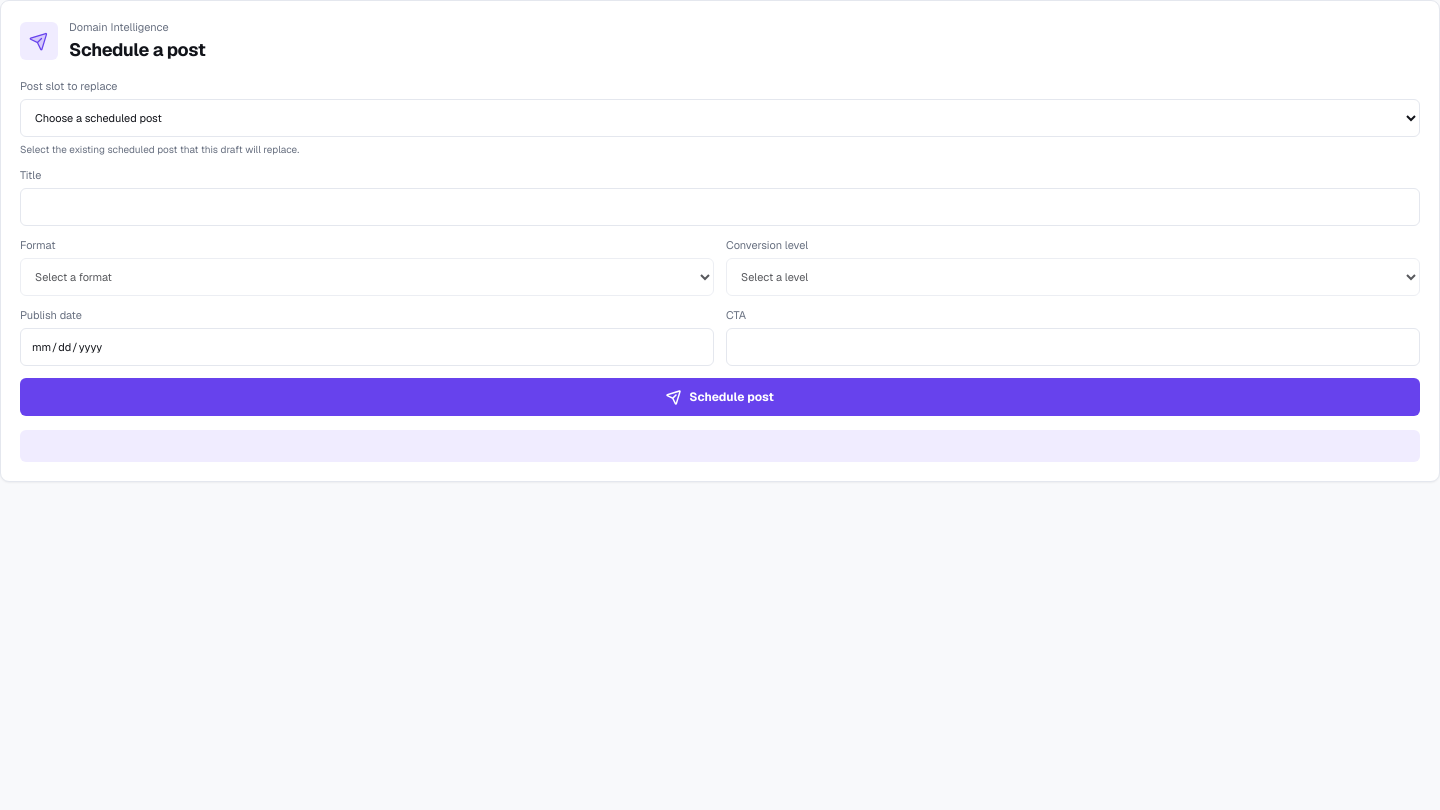
Scenario: rechecks eligibility before writing a slot that became published
The image size is (1440, 810).
Select "Cycle 1 · Slot 1 · Aug 22, 2026 · Market Pulse: .com transfer signals" in the dropdown labelled "Post slot to replace" at x=720, y=118, box [20,99,1420,137]
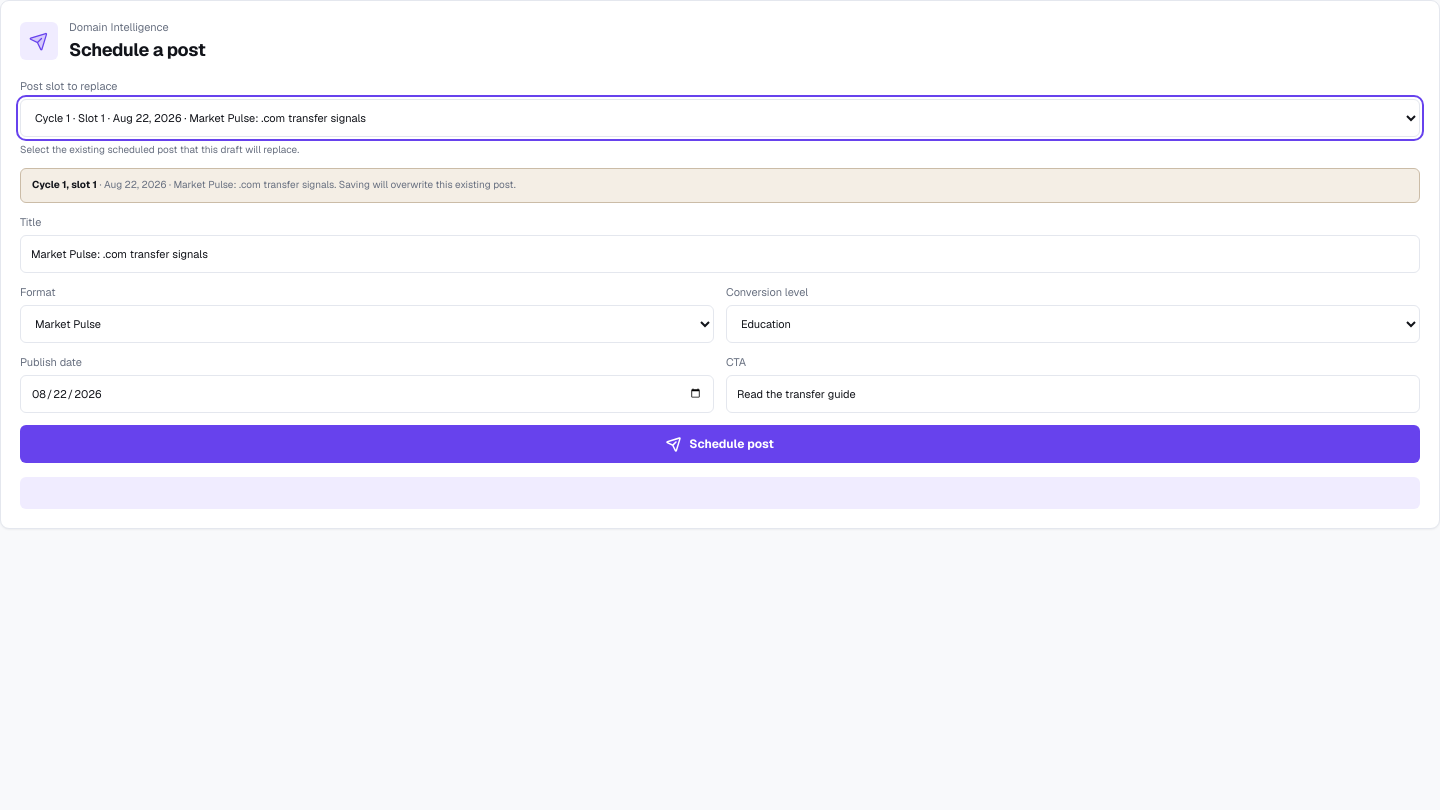
Replace the text in the field labelled "Title" with "Attempted overwrite" at x=720, y=254, box [20,234,1420,272]
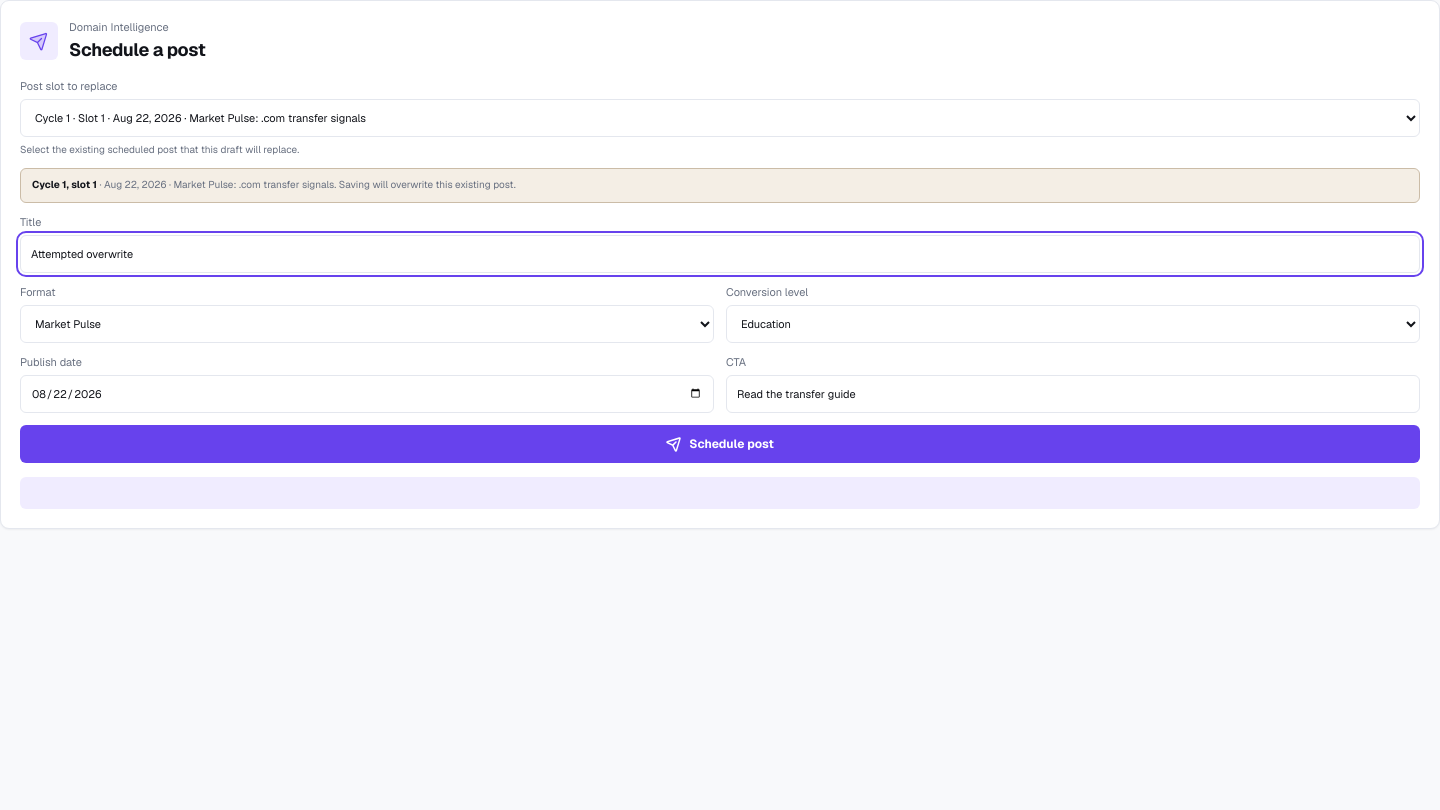
Click the button "Schedule post".
click(720, 444)  # box [20,424,1420,462]
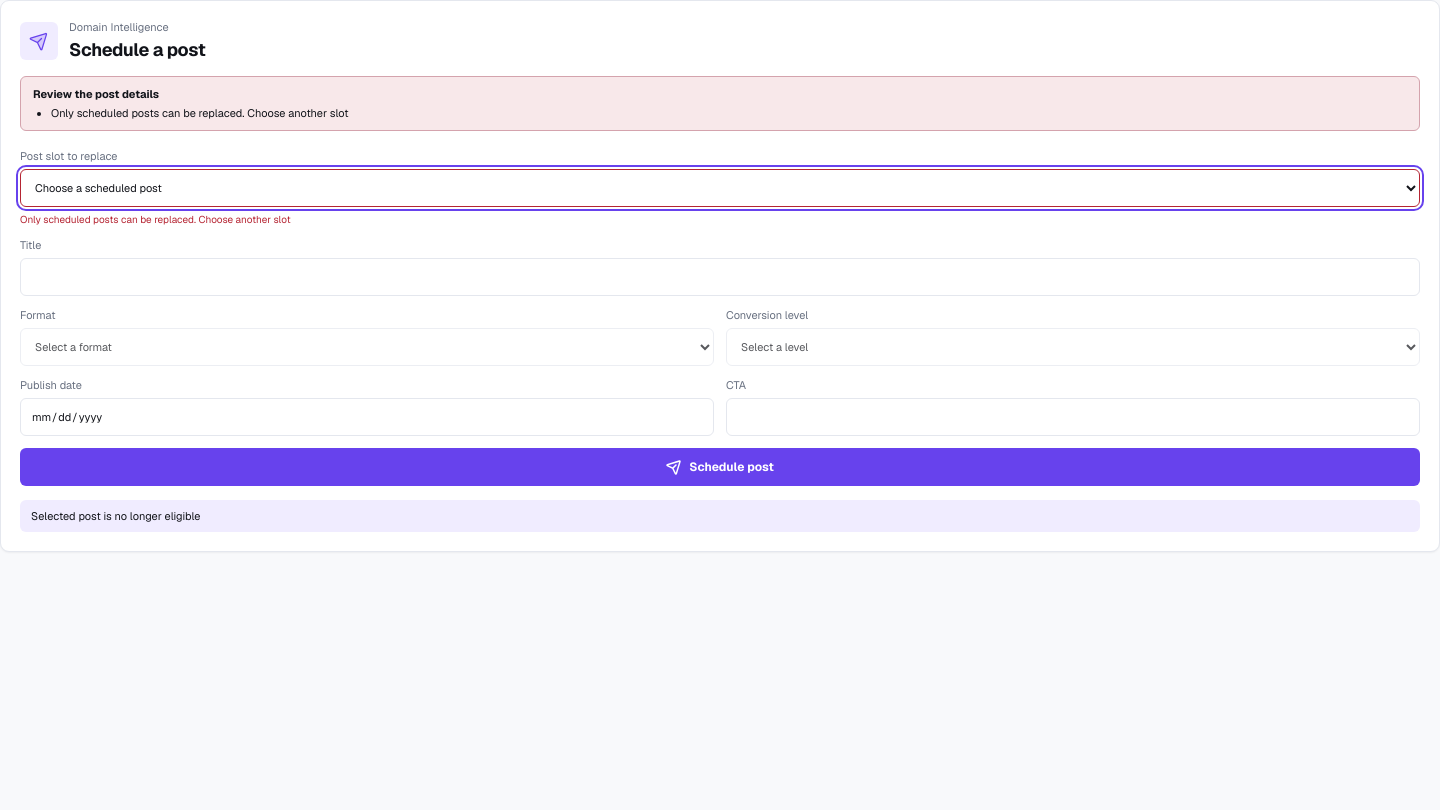
Expected: the message that starts with "Review the post details" shows "Only scheduled posts can be replaced. Choose another slot", [51,106,349,120]
